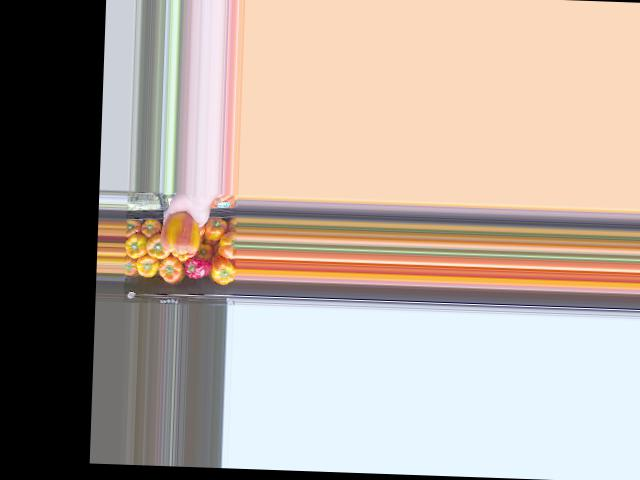bell_pepper: (202, 220, 229, 241)
